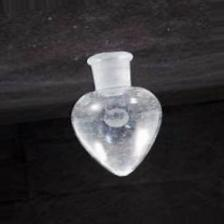Pear shaped flask: (62, 47, 163, 180)
